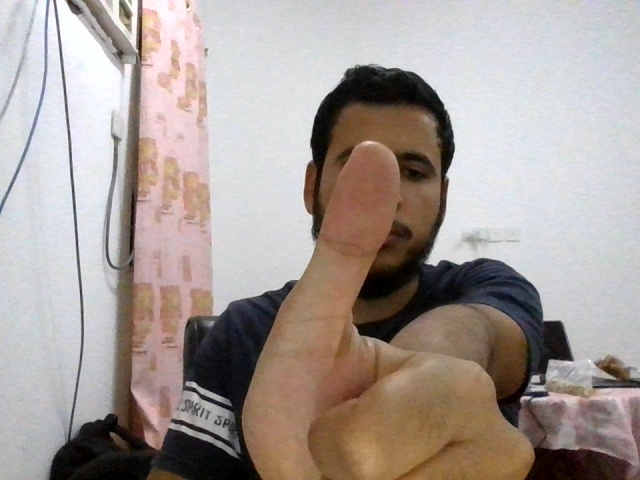One: (241, 142, 532, 480)
